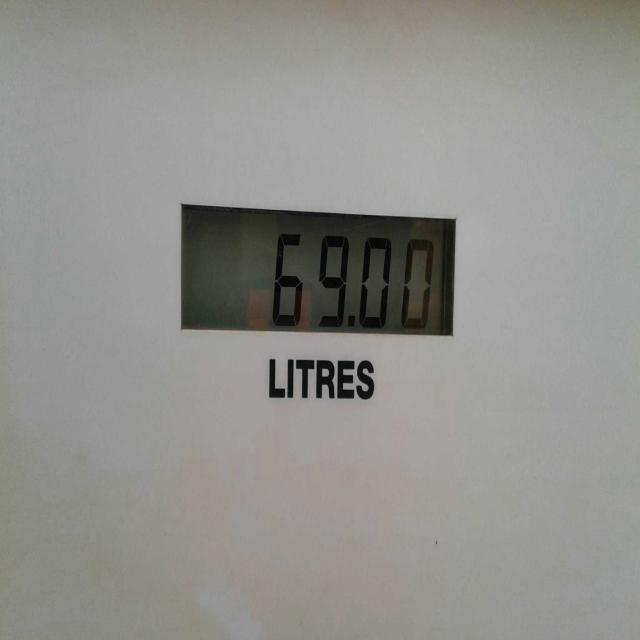.: (344, 309, 356, 335)
0: (398, 238, 440, 332), (356, 230, 390, 336)
6: (258, 222, 306, 336)
9: (312, 225, 348, 337)
